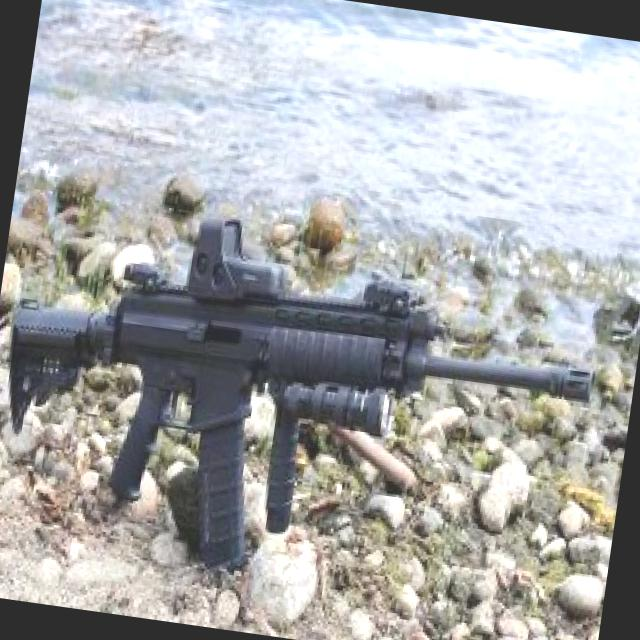long weapon: (0, 184, 631, 616)
